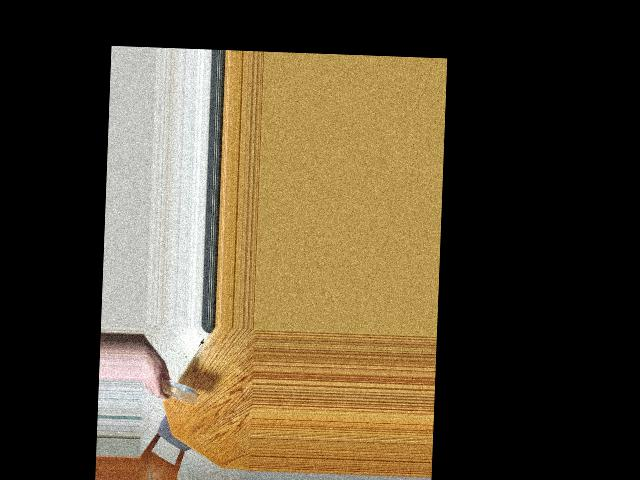cheese: (160, 377, 193, 406)
